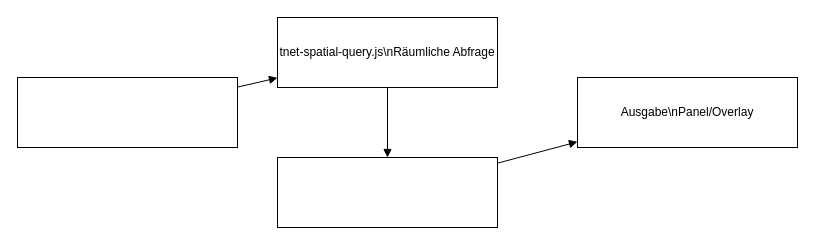
Image size: 815x245. Some labels were removed from this diagram. Each missing label, with the centre of its shape:
"Geometrie/Klick\nSpatial Trigger" belongs at point 127,112.
"tnet-oereb.js\nOEREB-Verarbeitung" belongs at point 387,192.
